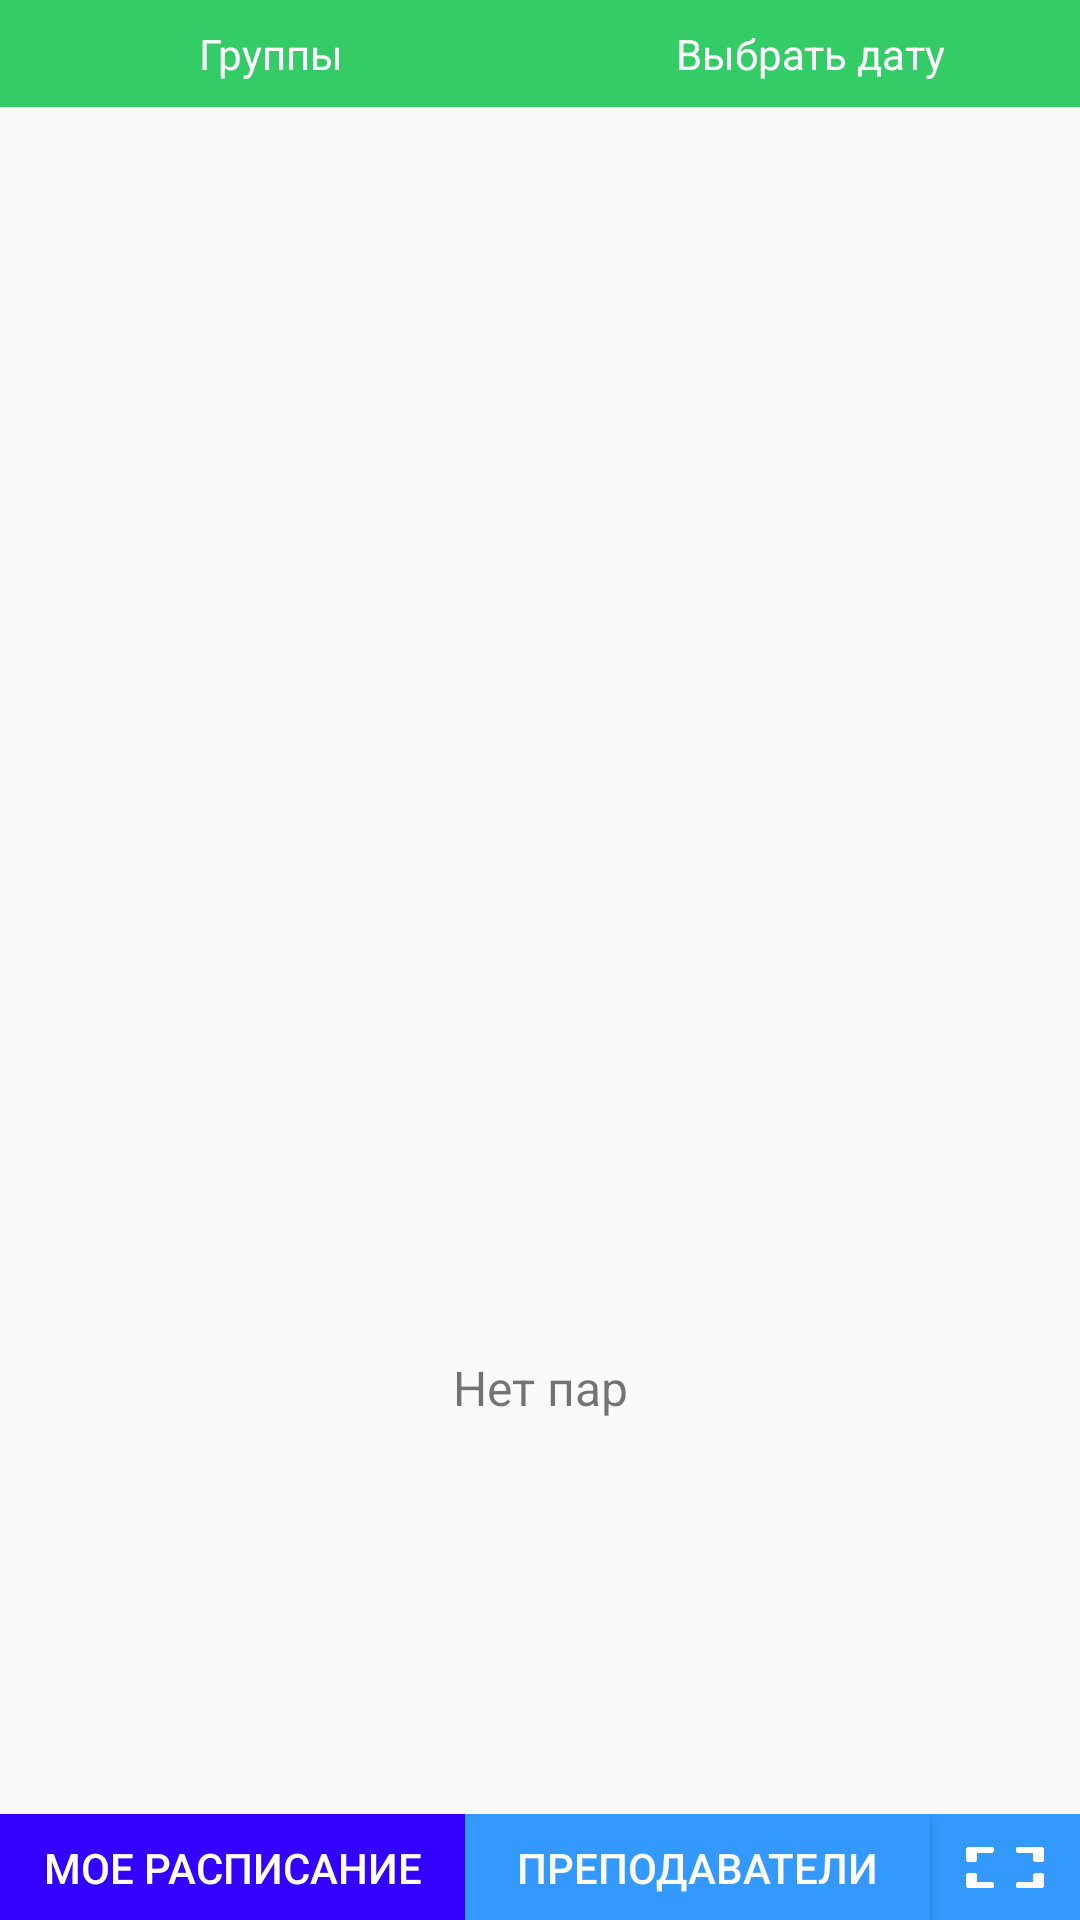

Point at icon controls on the screen. Image size 1080px x 1920px, points as (x,y).
expand: (1005,1867)
